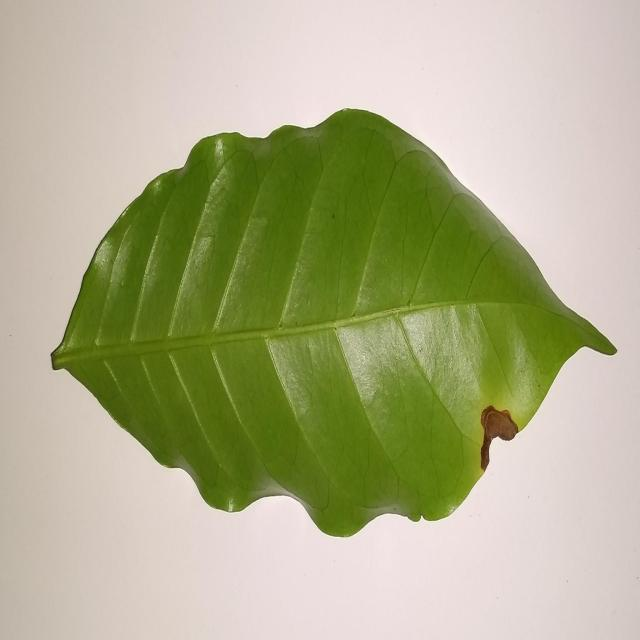phoma: (480, 405, 519, 472)
